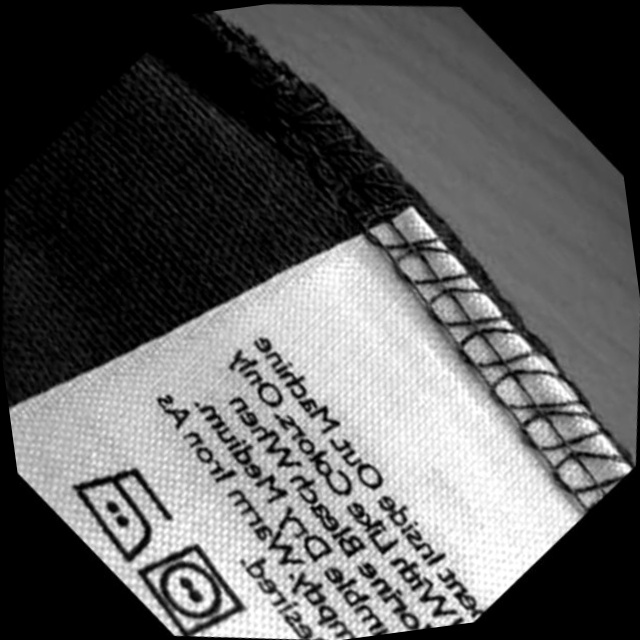iron_medium: (52, 451, 185, 574)
tumble_dry_medium: (121, 529, 257, 640)
